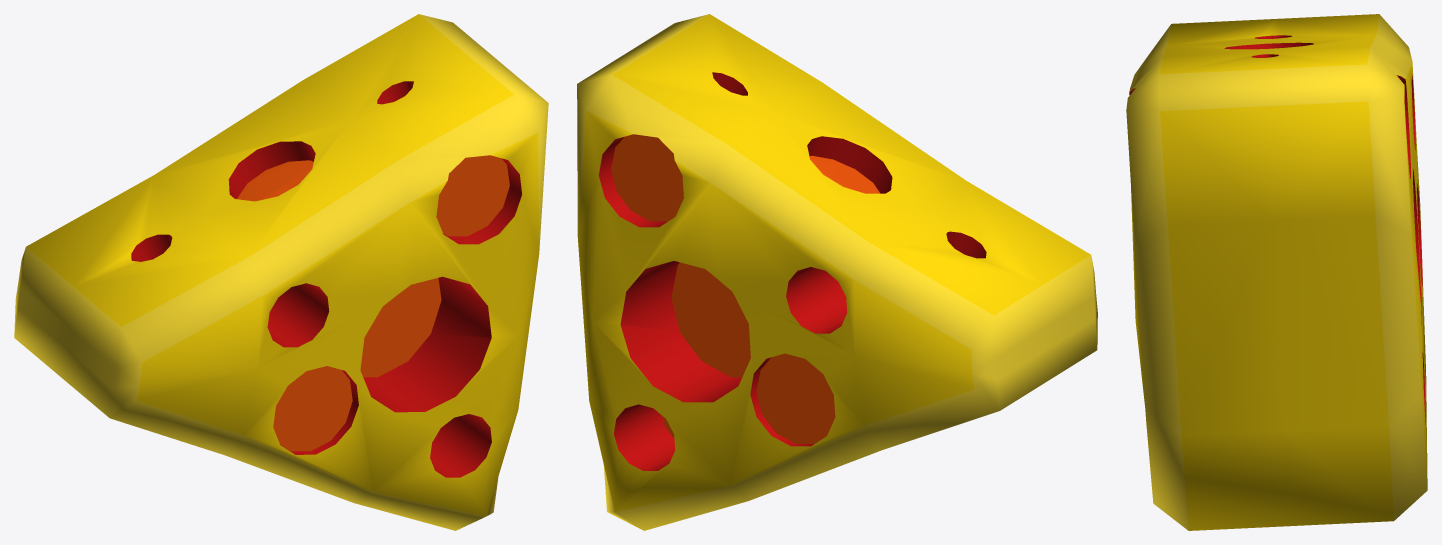
File: CIS.FBX
3 renders of one model, left to right at view 1: azimuth 30°, elevation 25°; view 2: azimuth 150°, elevation 25°; view 3: azimuth 270°, elevation 25°, orthographic. The views are drawn at different scales.
Visible parts, largest first — view 1: Box001; view 2: Box001; view 3: Box001.
Part boxes in pixels (x1,y1,x2,y2): Box001: (14, 14, 548, 530); Box001: (577, 14, 1097, 530); Box001: (1126, 14, 1427, 530).
Size of the model in its own units: 367 by 362 by 206.
